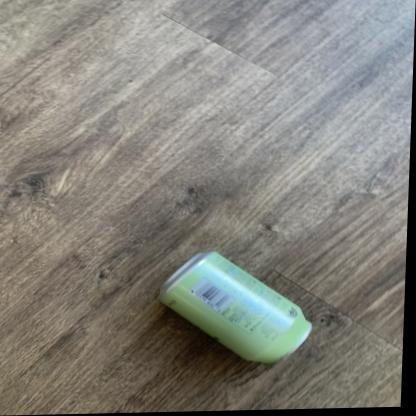trash: (160, 252, 311, 362)
